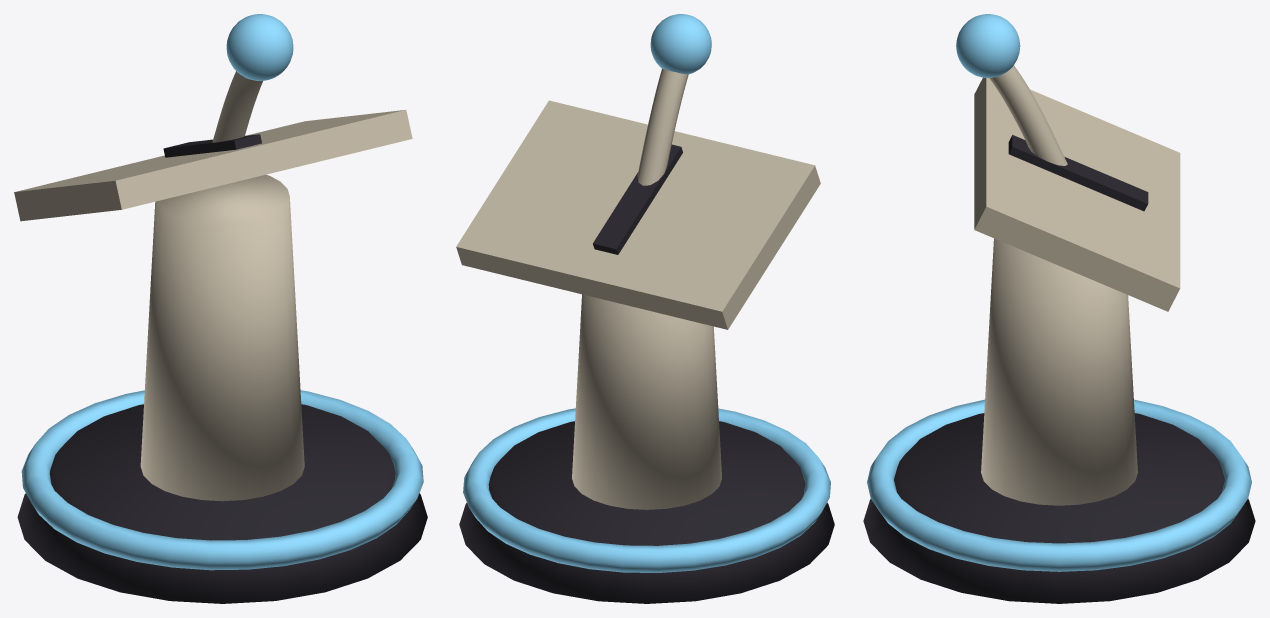
Rendered from hauptschalter.obj.
The picture shows the model from 3 angles, left to right: view 1: azimuth 30°, elevation 25°; view 2: azimuth 150°, elevation 25°; view 3: azimuth 270°, elevation 25°; orthographic projection. The views are drawn at different scales.
Visible parts, largest first — view 1: Hauptschalter; view 2: Hauptschalter; view 3: Hauptschalter.
Boxes of the visible parts, x1,y1,x2,y2 form: Hauptschalter: (14,14,427,603); Hauptschalter: (456,14,834,603); Hauptschalter: (863,14,1255,603).
Bounding box in the file's own units: 1.1 × 1.56 × 1.1.
